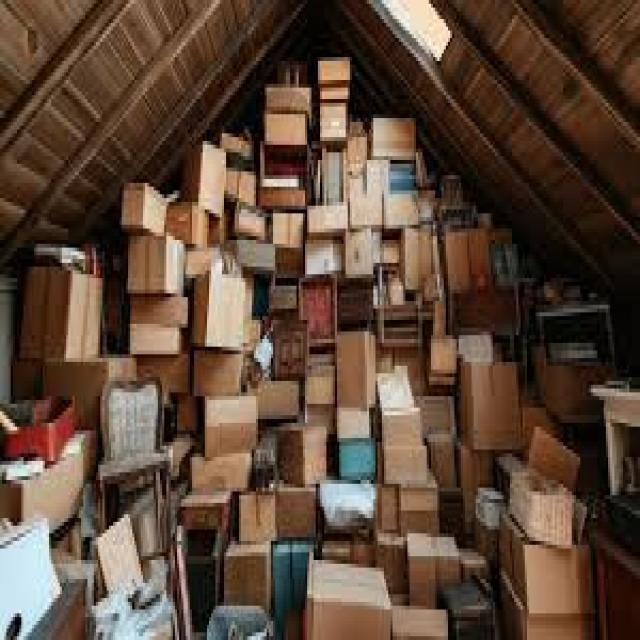box: (0, 431, 98, 533), (500, 515, 593, 613), (20, 267, 102, 358), (43, 359, 136, 430), (308, 560, 390, 639), (502, 572, 595, 639), (534, 347, 612, 422), (459, 362, 520, 449), (508, 469, 573, 548), (192, 271, 245, 350), (274, 541, 313, 639), (408, 534, 460, 605), (96, 515, 142, 594), (527, 427, 580, 491), (182, 141, 226, 217), (128, 237, 185, 293), (440, 583, 497, 639), (205, 397, 258, 457), (224, 541, 270, 609), (444, 229, 492, 293), (457, 442, 492, 529), (278, 427, 326, 487), (338, 332, 375, 407), (299, 275, 337, 346), (122, 183, 166, 236), (192, 351, 243, 396), (190, 454, 251, 491), (350, 160, 383, 228), (399, 477, 439, 533), (274, 317, 309, 380), (276, 484, 315, 540), (521, 397, 563, 449), (408, 534, 437, 609), (180, 492, 232, 533), (137, 355, 189, 396), (239, 492, 277, 544), (167, 202, 209, 247), (382, 446, 428, 487), (376, 534, 407, 594), (131, 294, 187, 327), (393, 606, 447, 639), (372, 119, 415, 159), (256, 381, 300, 419), (376, 366, 413, 411), (382, 408, 422, 449), (416, 397, 456, 438), (227, 240, 275, 274), (427, 431, 456, 487), (438, 488, 467, 544), (444, 233, 471, 293), (393, 347, 426, 396), (265, 84, 311, 118), (131, 324, 183, 354), (265, 111, 307, 148), (468, 229, 492, 289), (344, 229, 373, 278), (474, 511, 499, 567), (340, 439, 375, 479), (495, 454, 526, 499), (306, 237, 343, 274), (308, 202, 347, 236), (384, 191, 418, 228), (259, 183, 307, 209), (11, 359, 42, 399), (457, 332, 494, 365), (233, 206, 266, 243), (306, 366, 334, 407), (227, 168, 258, 205), (350, 191, 381, 228), (346, 126, 369, 175), (271, 214, 305, 247), (419, 229, 439, 285), (338, 408, 371, 441), (402, 229, 420, 289), (376, 484, 398, 533), (431, 336, 456, 377), (207, 210, 232, 251), (186, 248, 217, 281), (320, 103, 347, 140), (459, 549, 488, 582), (318, 58, 351, 87), (175, 393, 198, 434), (269, 282, 298, 312), (308, 404, 337, 434), (276, 248, 305, 278), (220, 134, 253, 159), (350, 538, 375, 567), (323, 538, 351, 563), (380, 240, 401, 266), (434, 301, 447, 339)
